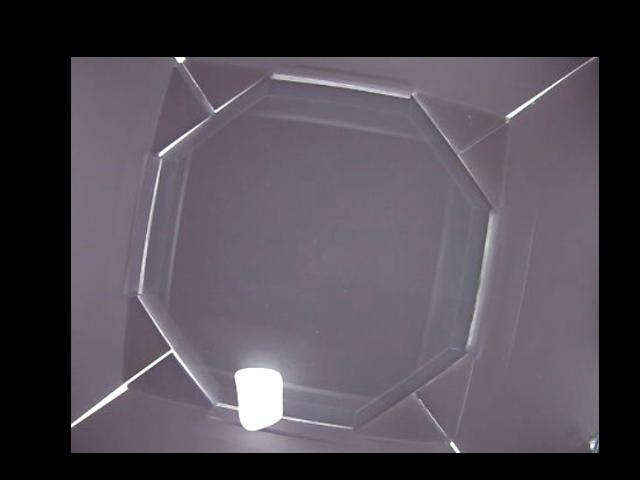Pebble: (236, 365, 283, 430)
